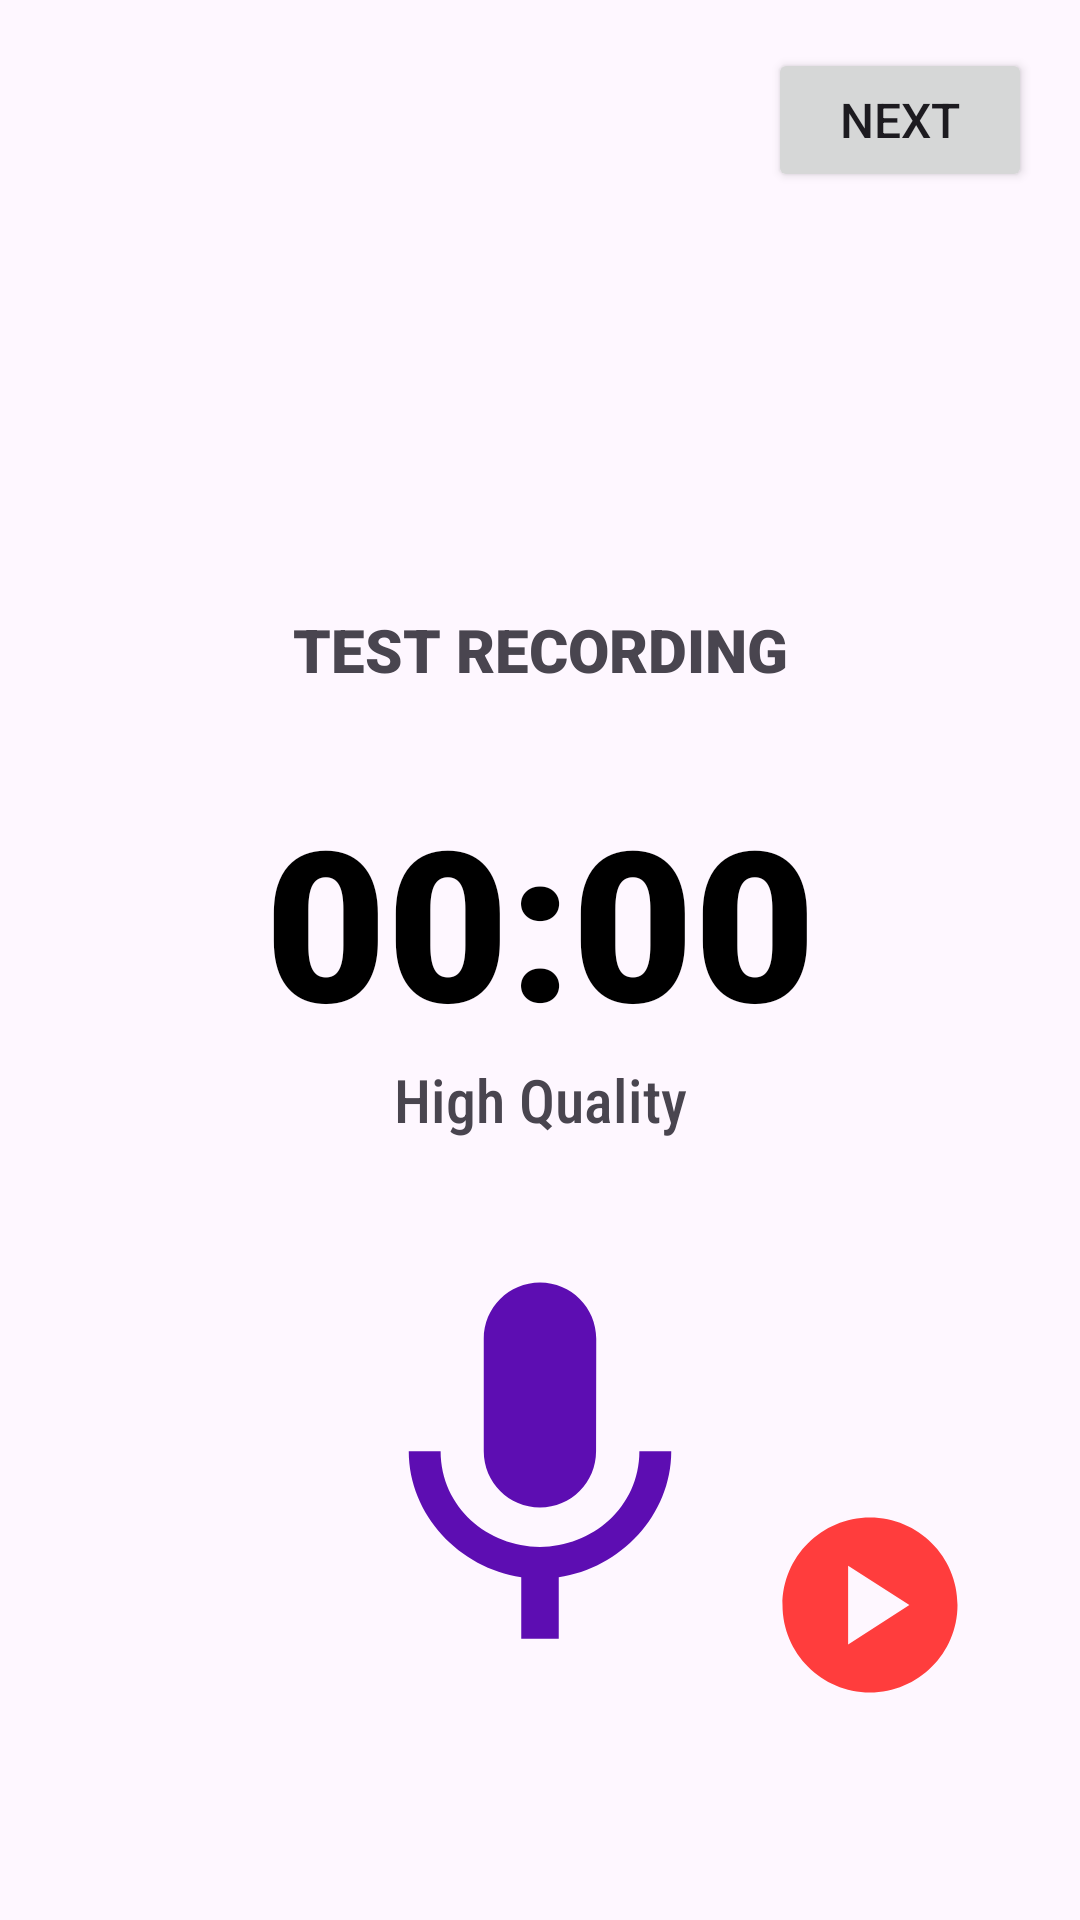

Named icons in this screenshot (1080×1920) and their bounding boxes, (x1, y1, x2, y2):
mic: (408, 1282, 672, 1639)
play circle: (782, 1517, 958, 1693)
